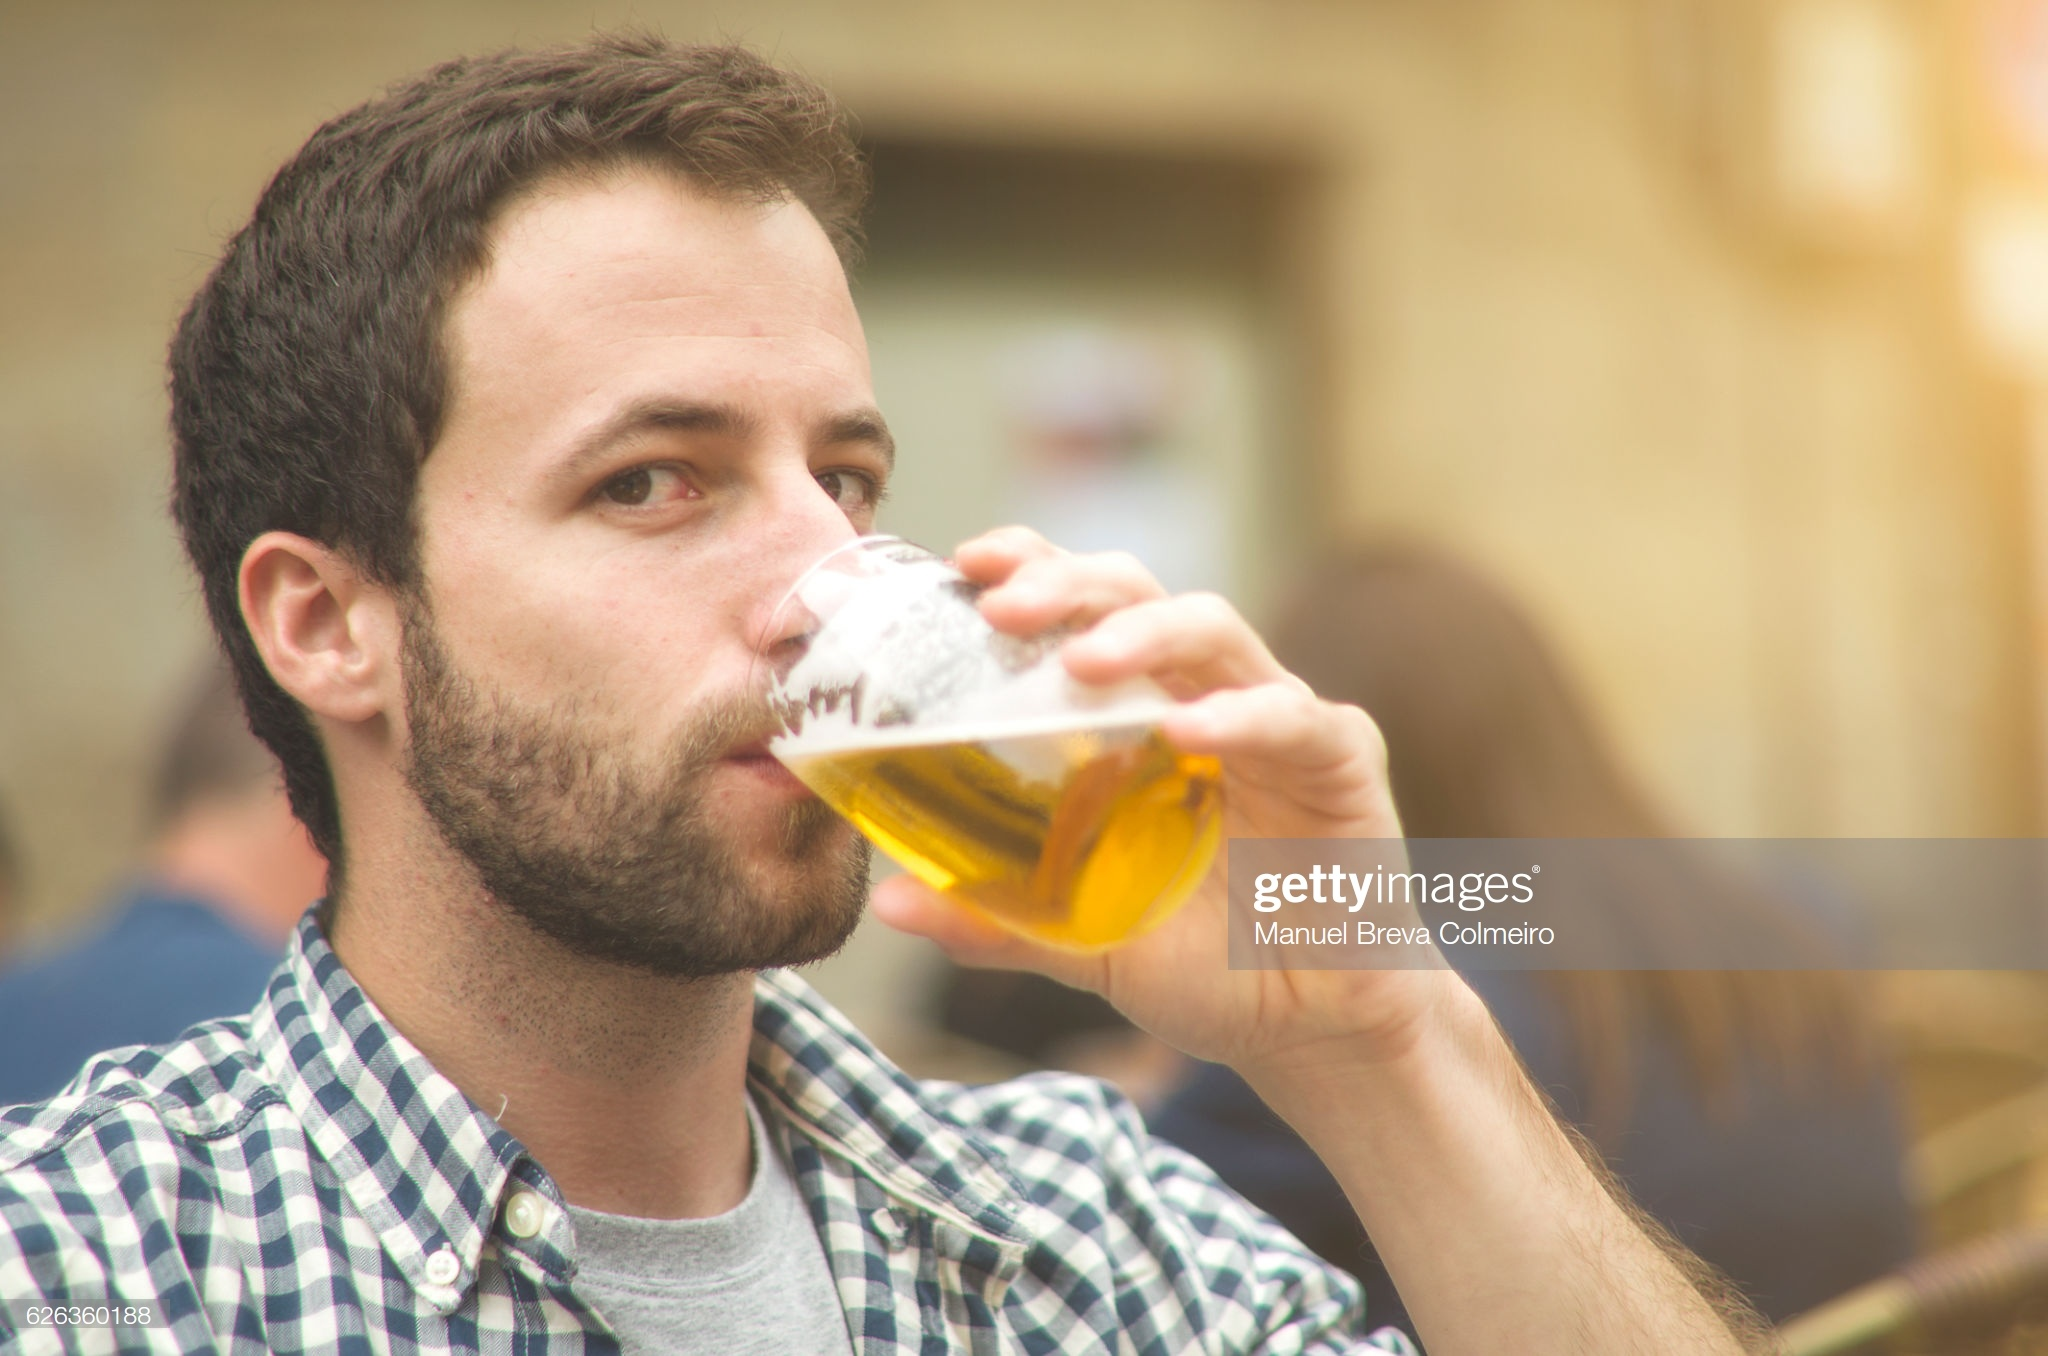glassBeer: (767, 537, 1193, 932)
